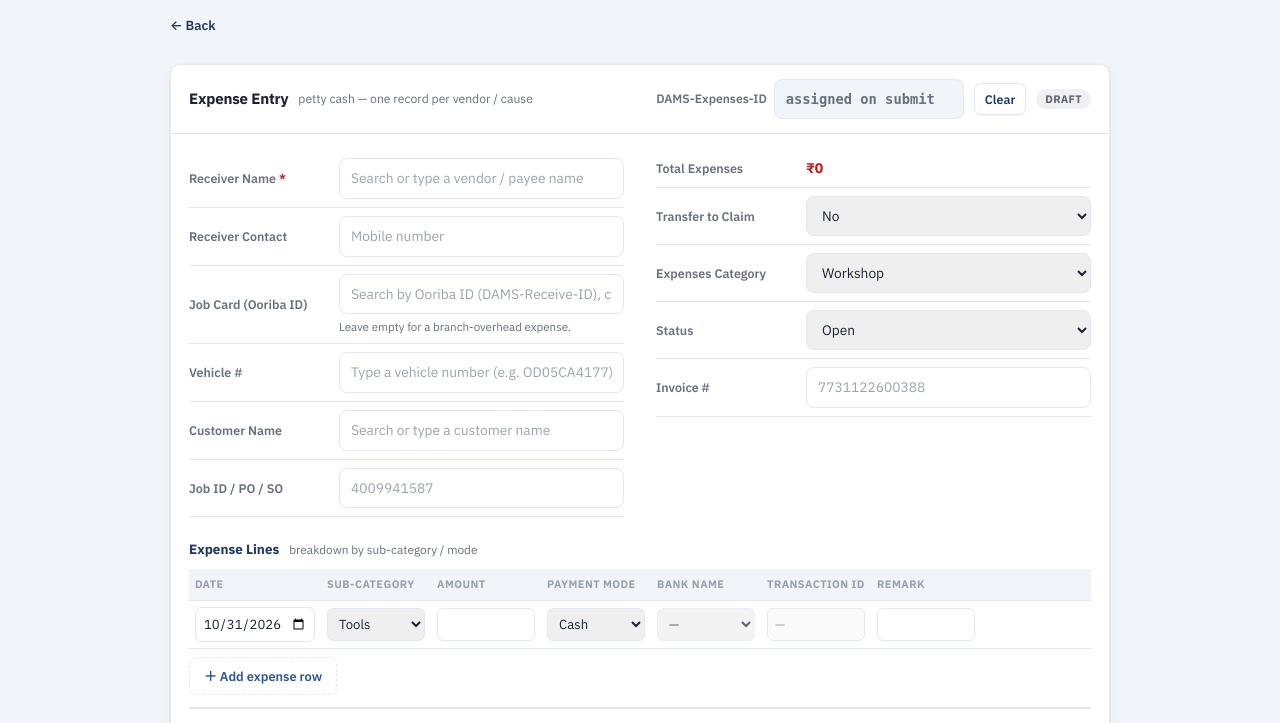
Scenario: Expense form (rev 76) › searches vendors, marks the ones that supply the chosen category, and fills the phone on pick
Step 1. Click the field named "Receiver name" → (482, 179), box [339,158,624,199]
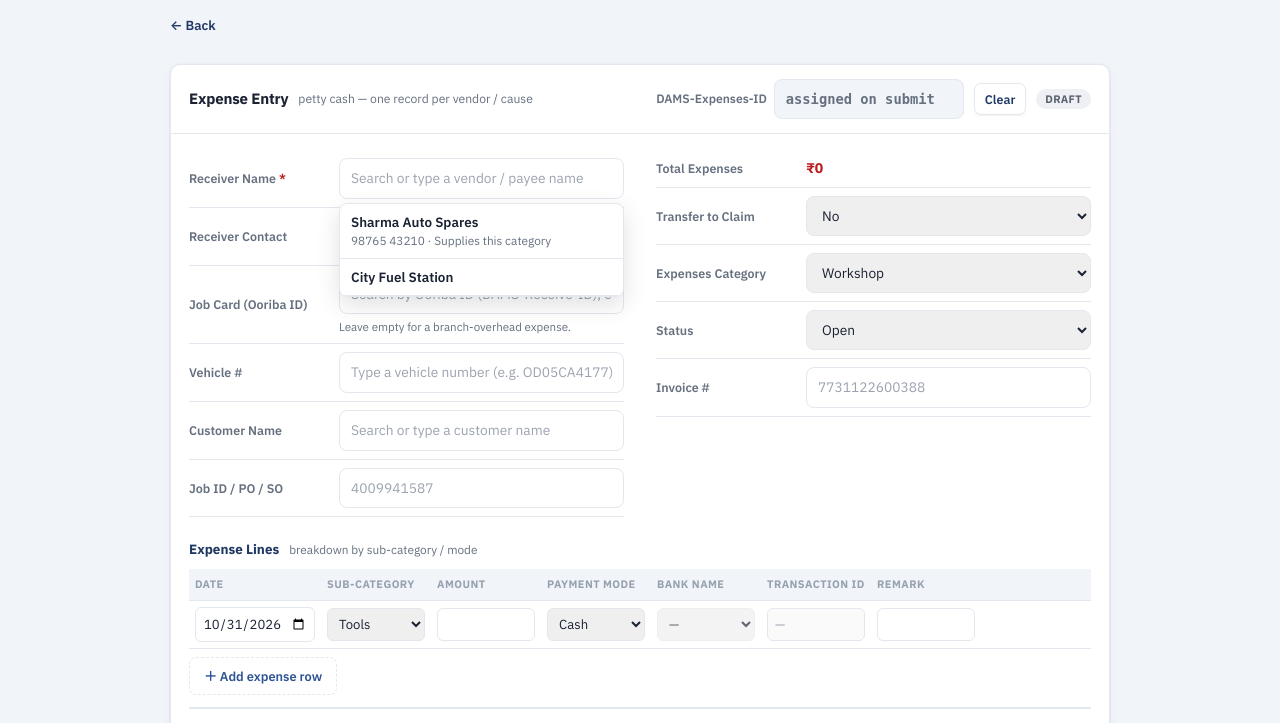
Check: the text "98765 43210 · Supplies this category" is shown, box [351,233,551,248]
Step 2. Click the button "Sharma Auto Spares 98765 43210 · Supplies this category" → (482, 231), box [340,204,623,259]
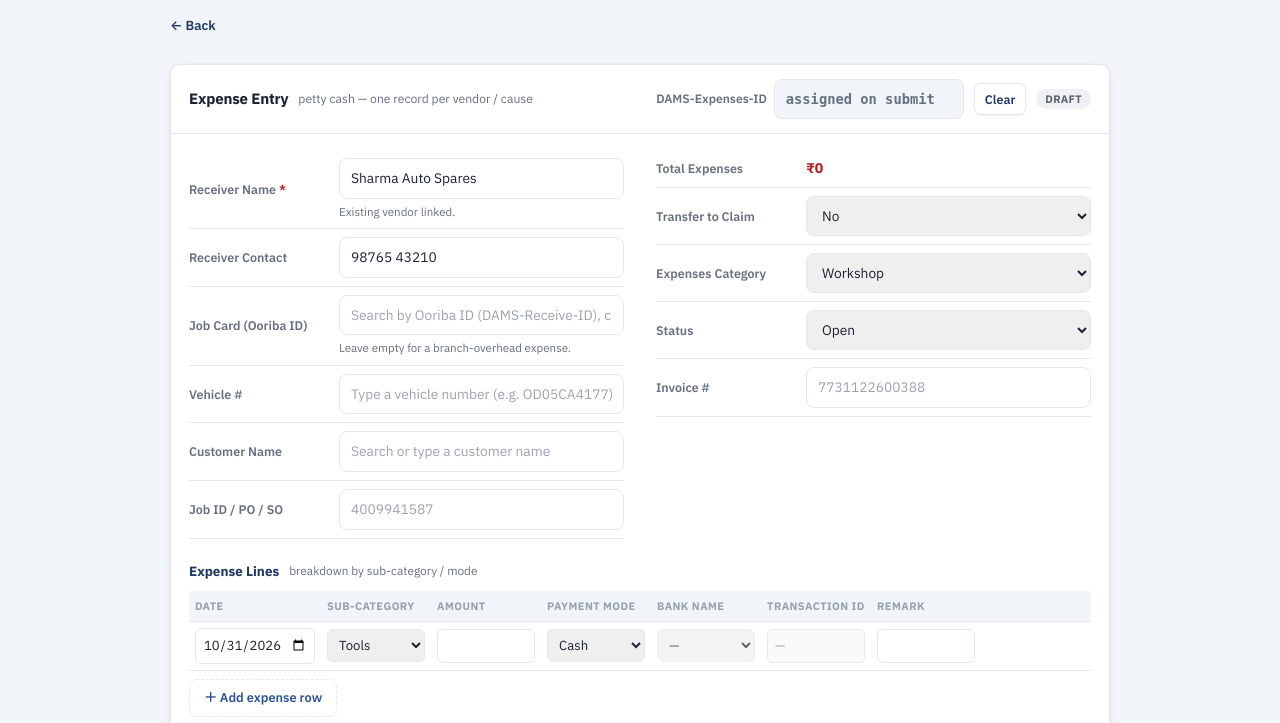
Check: the field named "Receiver name" holds "Sharma Auto Spares", box [339,158,624,199]
Check: the text "Existing vendor linked." is shown, box [339,204,455,219]
Check: the field with placeholder "Mobile number" next to "Receiver Contact" holds "98765 43210", box [339,237,624,278]
